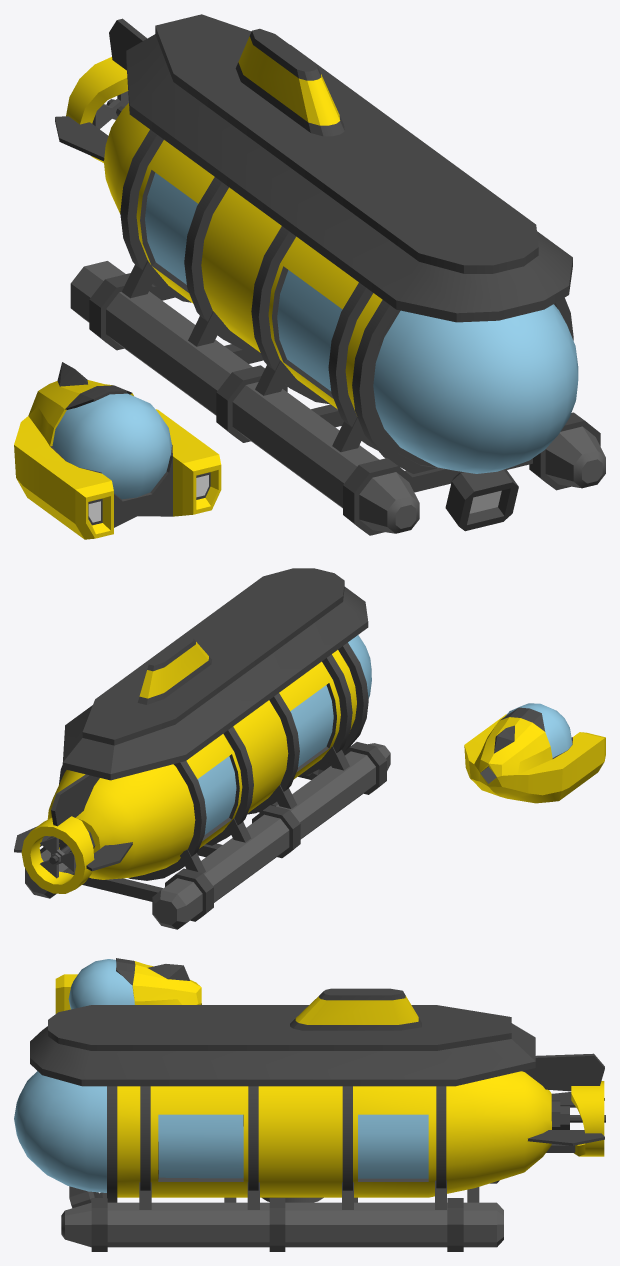
The model's file is Submarines.fbx.
3 renders of one model, top to bottom at view 1: azimuth 30°, elevation 25°; view 2: azimuth 150°, elevation 25°; view 3: azimuth 270°, elevation 25°, orthographic. The views are drawn at different scales.
Visible parts, largest first — view 1: Large Submarine, Large Windows, Mini Sub, Small Windows; view 2: Large Submarine, Mini Sub, Large Windows, Small Windows, Propellor; view 3: Large Submarine, Large Windows, Mini Sub, Small Windows.
Part boxes in pixels (x1,y1,x2,y2): Large Submarine: [55, 14, 605, 535]; Large Windows: [145, 172, 578, 473]; Mini Sub: [14, 362, 221, 539]; Small Windows: [52, 393, 171, 499]; Large Submarine: [14, 568, 390, 929]; Mini Sub: [464, 707, 605, 803]; Large Windows: [197, 635, 371, 834]; Small Windows: [505, 703, 572, 757]; Propellor: [40, 837, 76, 878]; Large Submarine: [30, 988, 605, 1251]; Large Windows: [14, 1071, 428, 1192]; Mini Sub: [55, 958, 201, 1013]; Small Windows: [68, 959, 134, 1009].
Bounding box in the file's own units: 1091 × 631 × 1462.
